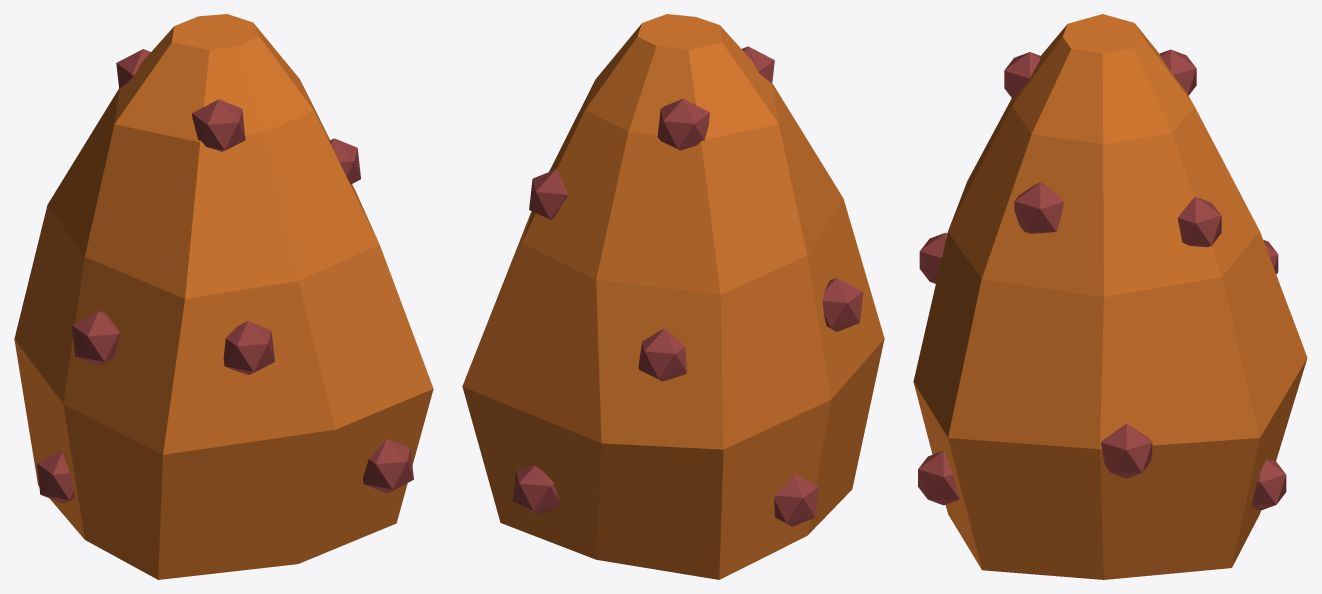
Rendered from ironOre.fbx.
The picture shows the model from 3 angles, left to right: view 1: azimuth 30°, elevation 25°; view 2: azimuth 150°, elevation 25°; view 3: azimuth 270°, elevation 25°; orthographic projection.
Visible parts, largest first — view 1: Core, IronPieces.007, IronPieces.008, IronPieces.006, IronPieces.002, IronPieces.010, IronPieces.001, IronPieces.009; view 2: Core, IronPieces.009, IronPieces.003, IronPieces.010, IronPieces.004, IronPieces.002, IronPieces, IronPieces.008; view 3: Core, IronPieces.005, IronPieces.001, IronPieces, IronPieces.006, IronPieces.004, IronPieces.008, IronPieces.009, IronPieces.007.
Boxes of the visible parts, bbox=[...] form: Core: bbox=[14, 14, 433, 579]; IronPieces.007: bbox=[223, 321, 274, 374]; IronPieces.008: bbox=[192, 99, 245, 151]; IronPieces.006: bbox=[363, 439, 413, 493]; IronPieces.002: bbox=[72, 311, 119, 365]; IronPieces.010: bbox=[36, 450, 74, 503]; IronPieces.001: bbox=[329, 138, 360, 184]; IronPieces.009: bbox=[116, 49, 150, 88]; Core: bbox=[462, 14, 884, 579]; IronPieces.009: bbox=[657, 98, 709, 150]; IronPieces.003: bbox=[638, 329, 686, 381]; IronPieces.010: bbox=[774, 474, 818, 526]; IronPieces.004: bbox=[512, 465, 559, 515]; IronPieces.002: bbox=[822, 278, 863, 331]; IronPieces: bbox=[529, 169, 567, 219]; IronPieces.008: bbox=[742, 46, 774, 83]; Core: bbox=[913, 14, 1307, 579]; IronPieces.005: bbox=[1100, 424, 1152, 478]; IronPieces.001: bbox=[1014, 182, 1063, 233]; IronPieces: bbox=[1177, 197, 1221, 247]; IronPieces.006: bbox=[918, 450, 959, 505]; IronPieces.004: bbox=[1252, 458, 1286, 510]; IronPieces.008: bbox=[1004, 52, 1040, 100]; IronPieces.009: bbox=[1160, 49, 1196, 95]; IronPieces.007: bbox=[919, 232, 947, 283].
Size of the model in its own units: 252 by 337 by 253.
